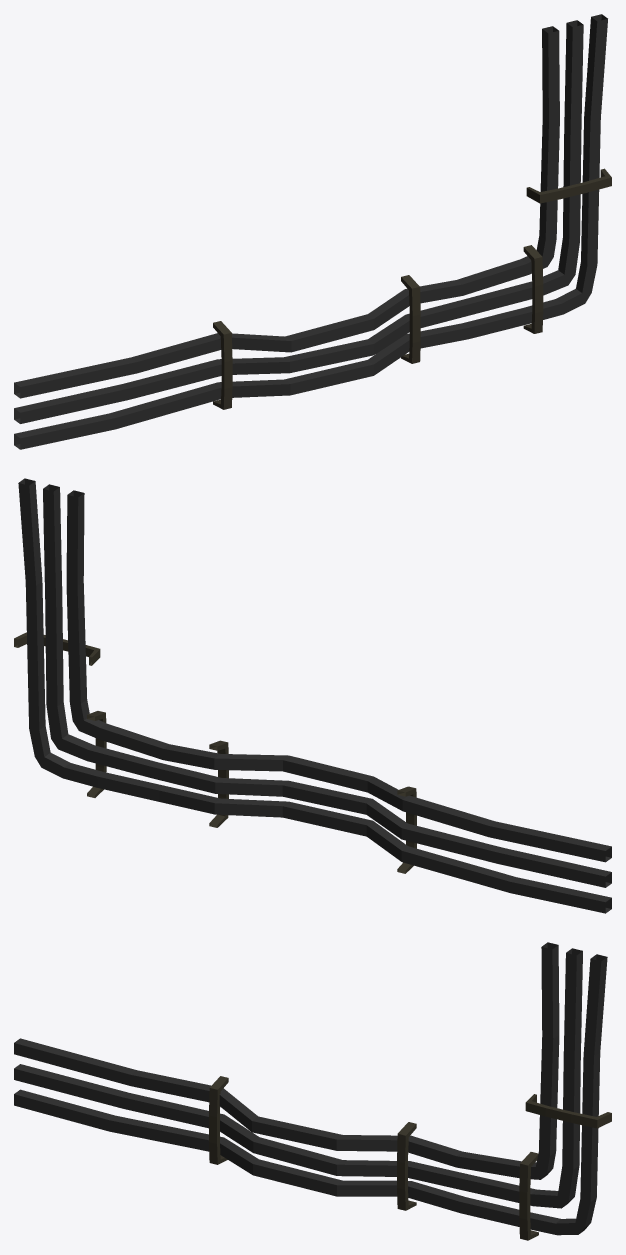
The model's file is SW_ENV_Wires3_RailTunnelWall_90dTurn_01.fbx.
3 views of the same model, one above another, from view 1: azimuth 30°, elevation 25°; view 2: azimuth 150°, elevation 25°; view 3: azimuth 330°, elevation 25° (orthographic).
Visible parts, largest first — view 1: SW_ENV_Wires3_RailTunnelWall_90dTurn_01; view 2: SW_ENV_Wires3_RailTunnelWall_90dTurn_01; view 3: SW_ENV_Wires3_RailTunnelWall_90dTurn_01.
Part boxes in pixels (x1=…): SW_ENV_Wires3_RailTunnelWall_90dTurn_01: x1=14, y1=14, x2=611, y2=449; SW_ENV_Wires3_RailTunnelWall_90dTurn_01: x1=14, y1=478, x2=611, y2=913; SW_ENV_Wires3_RailTunnelWall_90dTurn_01: x1=14, y1=942, x2=611, y2=1240.
Bounding box in the file's own units: 217 × 104 × 14.88.
